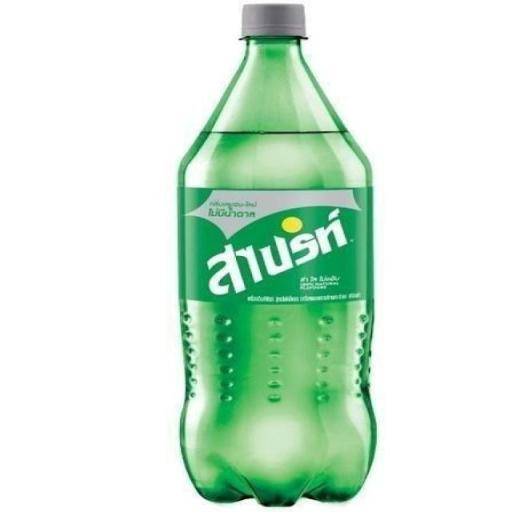plastic: (168, 0, 380, 510)
